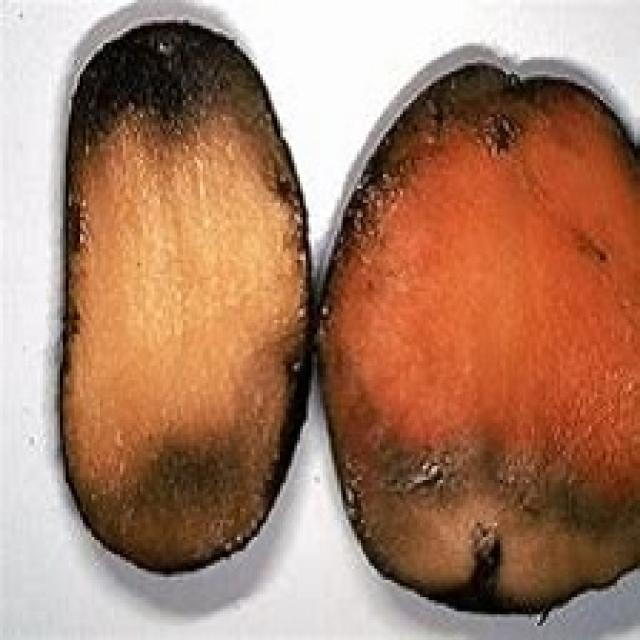pink_rot: (311, 54, 640, 628), (45, 19, 311, 586)
